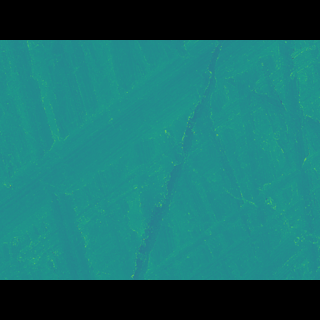Loch: (0, 70, 282, 222), (122, 69, 227, 251), (146, 152, 319, 249), (276, 69, 319, 249)
